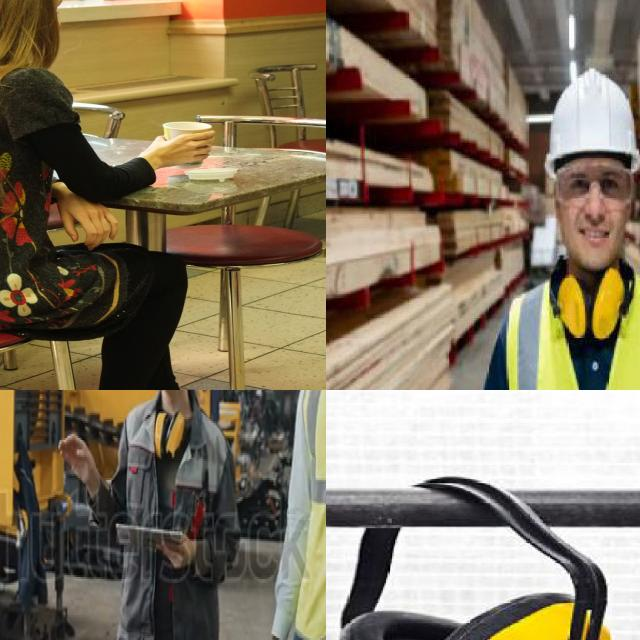Ear-protection: (340, 559, 609, 640), (542, 256, 640, 344), (150, 406, 187, 462)
glasses: (552, 163, 637, 212)
head_helmet: (534, 64, 640, 180)
person: (451, 38, 640, 390), (67, 390, 250, 640)
vest: (499, 275, 640, 390)
